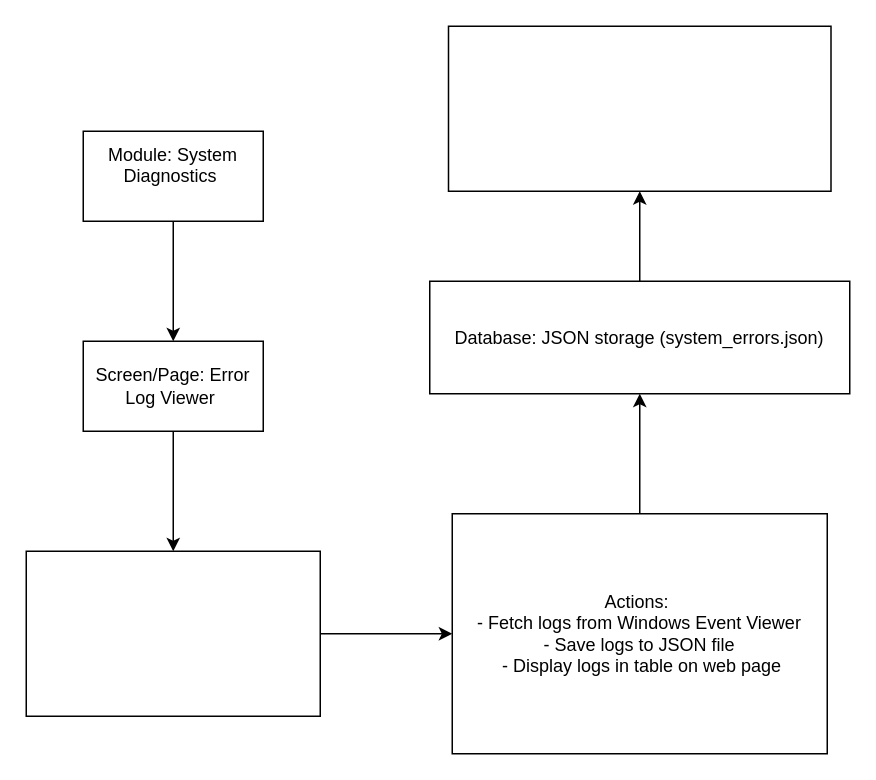
This 876x780 diagram has some shape labels left out. The centre of each missing label's shape, as x and y in pixels:
Fields: EventID (int), SourceName (string): [172,633]
Validations: - Only EventType == 1 (Error type logs): [639,108]
